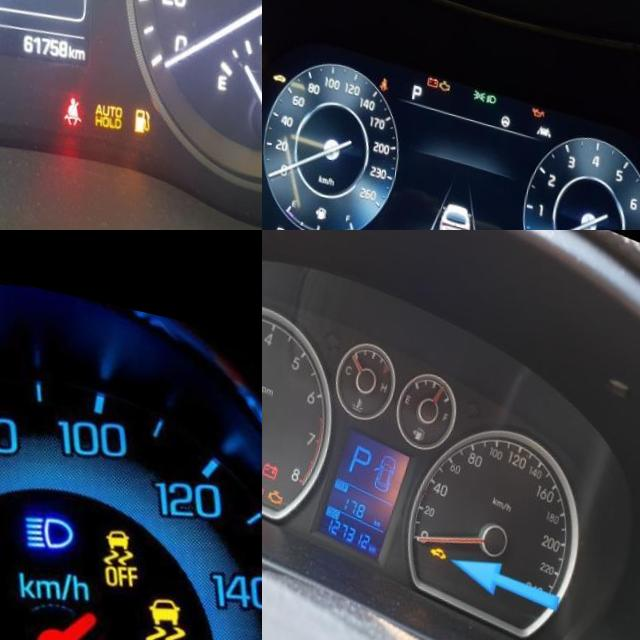LaneCenteringOff: (541, 106, 556, 120)
Low beam: (490, 77, 500, 89)
Low fuel level: (138, 89, 158, 119)
SideLamp: (476, 73, 490, 87)
